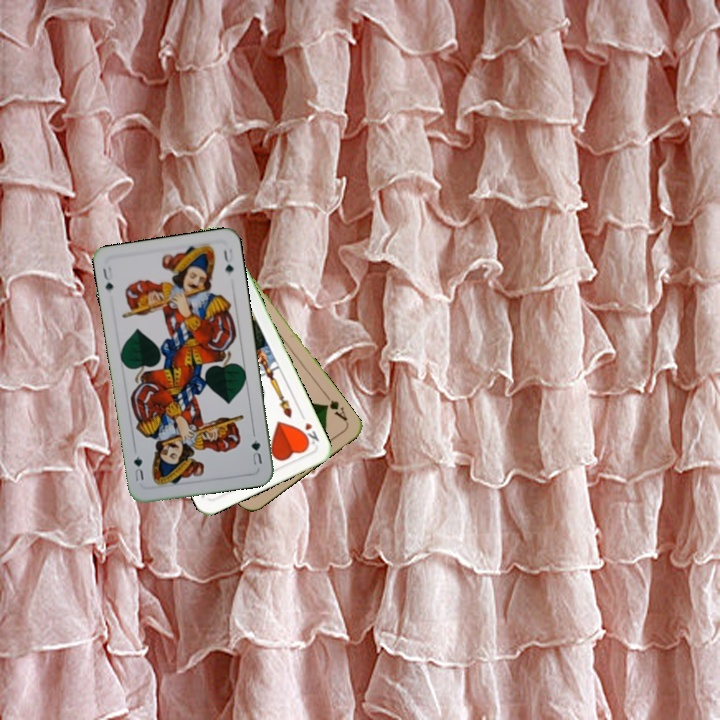GA: (320, 390, 350, 424)
GU: (247, 436, 265, 468), (99, 262, 116, 294)
HK: (297, 418, 322, 448)
